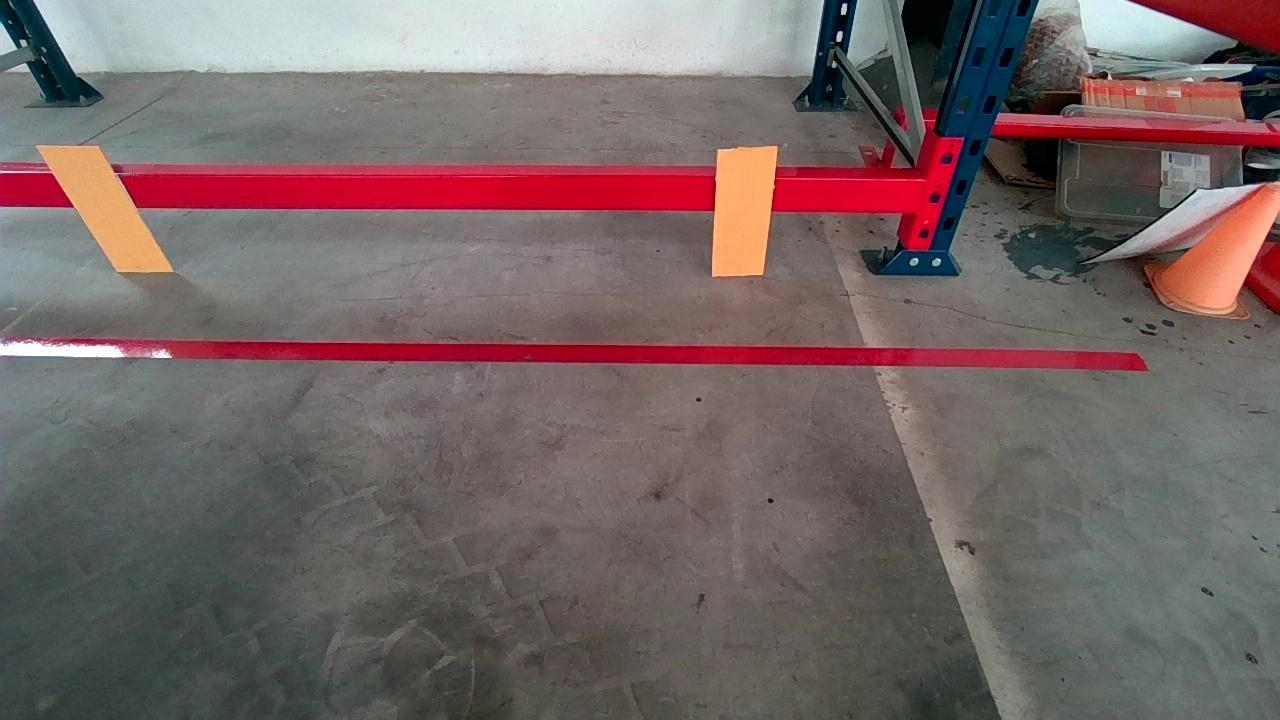h_rack: (8, 167, 922, 215)
orange_strip: (39, 146, 172, 271), (713, 147, 775, 276)
